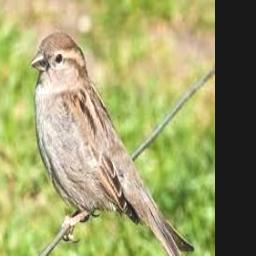Sparrow: (30, 33, 194, 256)
